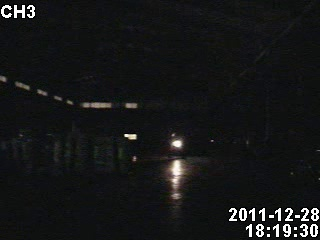fire: (172, 139, 183, 148)
